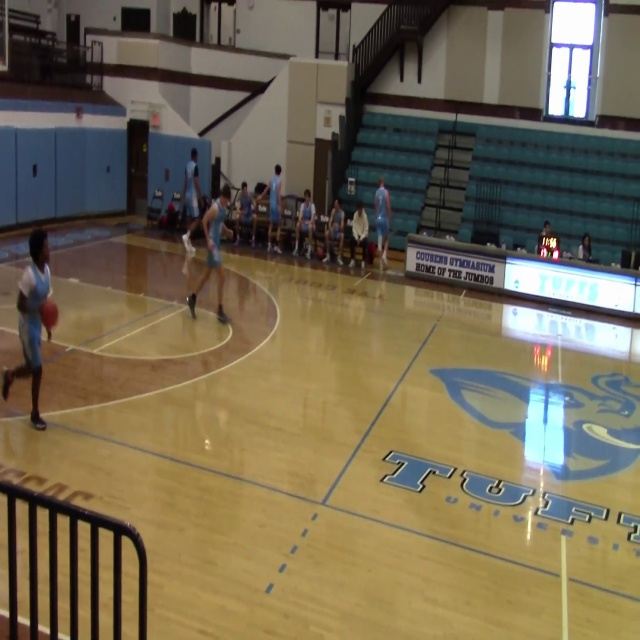Basketball: (40, 300, 58, 328)
